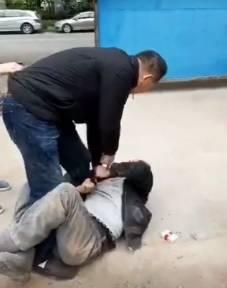Fall-Detected: (0, 148, 156, 283)
